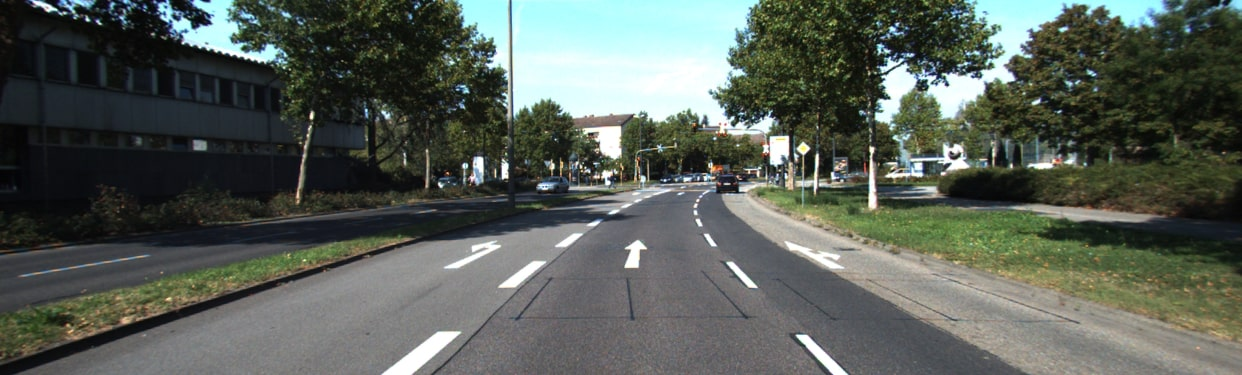car: (526, 176, 573, 197), (710, 174, 742, 200)
